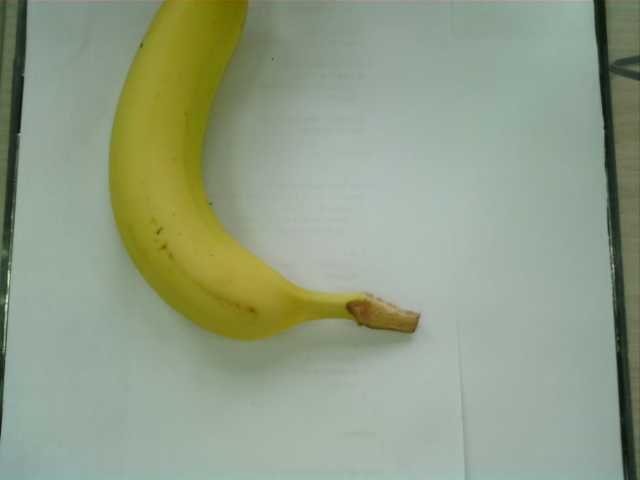normal_banana: (105, 2, 398, 336)
